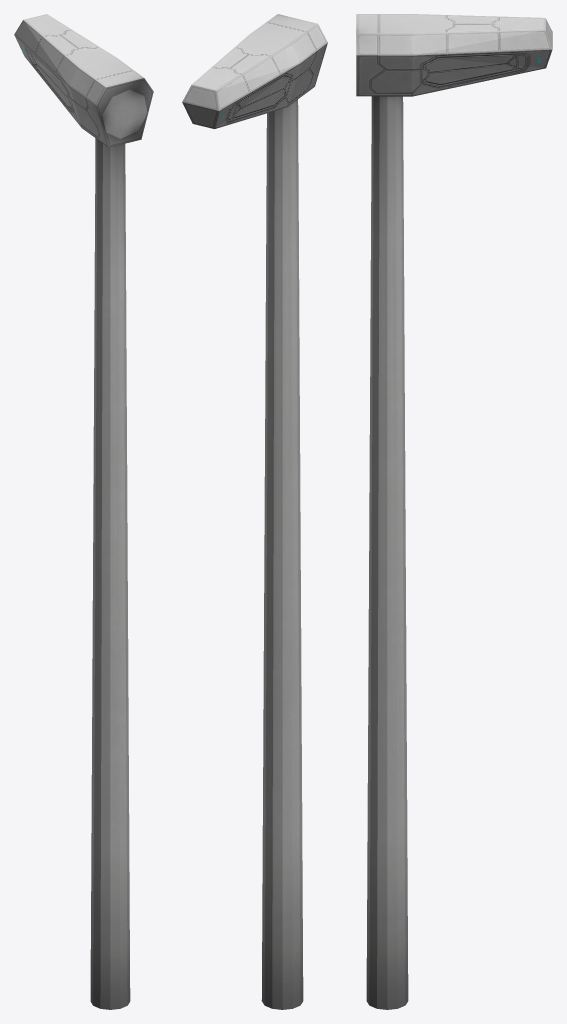
Rendered from wind_power_body_01.obj.
The picture shows the model from 3 angles, left to right: view 1: azimuth 30°, elevation 25°; view 2: azimuth 150°, elevation 25°; view 3: azimuth 270°, elevation 25°; orthographic projection. The views are drawn at different scales.
Parts seen in each view (by area): view 1: default; view 2: default; view 3: default.
Boxes of the visible parts, x1=… form: default: x1=14, y1=14, x2=153, y2=1009; default: x1=182, y1=14, x2=327, y2=1009; default: x1=356, y1=14, x2=552, y2=1009.
Bounding box in the file's own units: 2.05 × 30.92 × 5.62.
